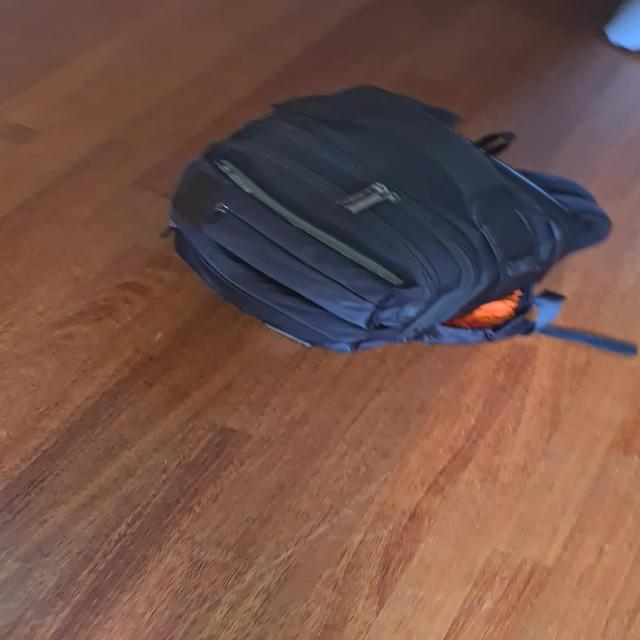backpack: (149, 76, 626, 357)
